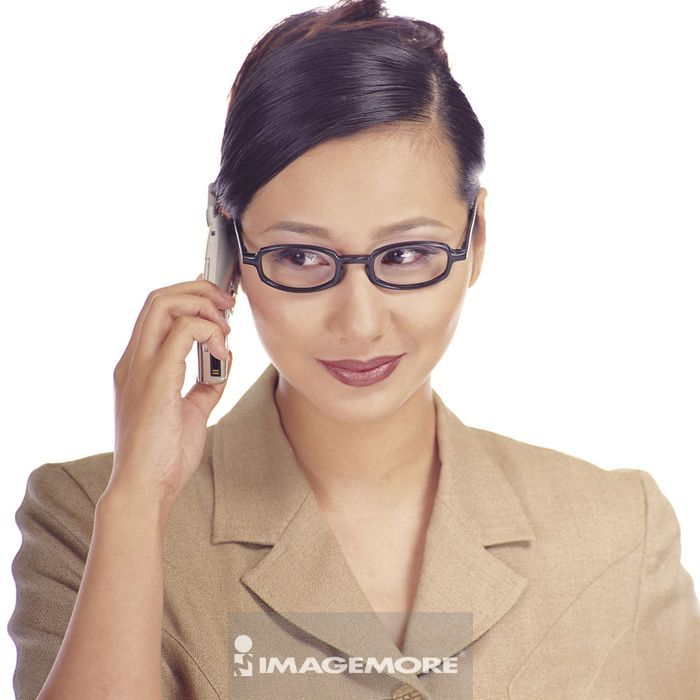phone: (187, 178, 233, 396)
talk: (96, 178, 459, 504)
